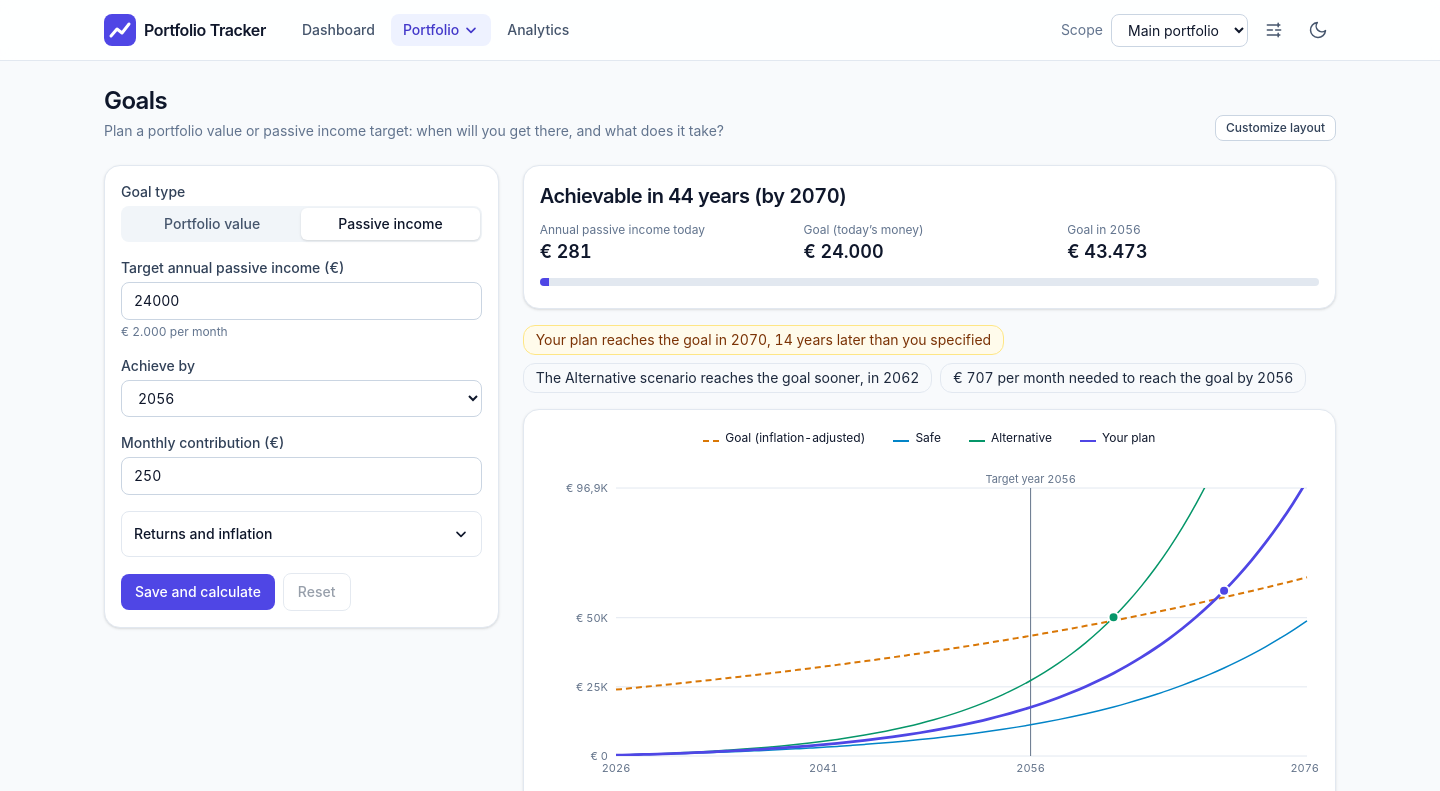
Test: GoalsPage › switches the goal type, adapting the labels, target and price return field
The width and height of the screenshot is (1440, 791).
Expected: the text "Achievable in 44 years (by 2070)" is shown, x1=540 y1=184 x2=846 y2=208
Click the button "Returns and inflation".
click(203, 534)  # box x1=134 y1=524 x2=469 y2=544
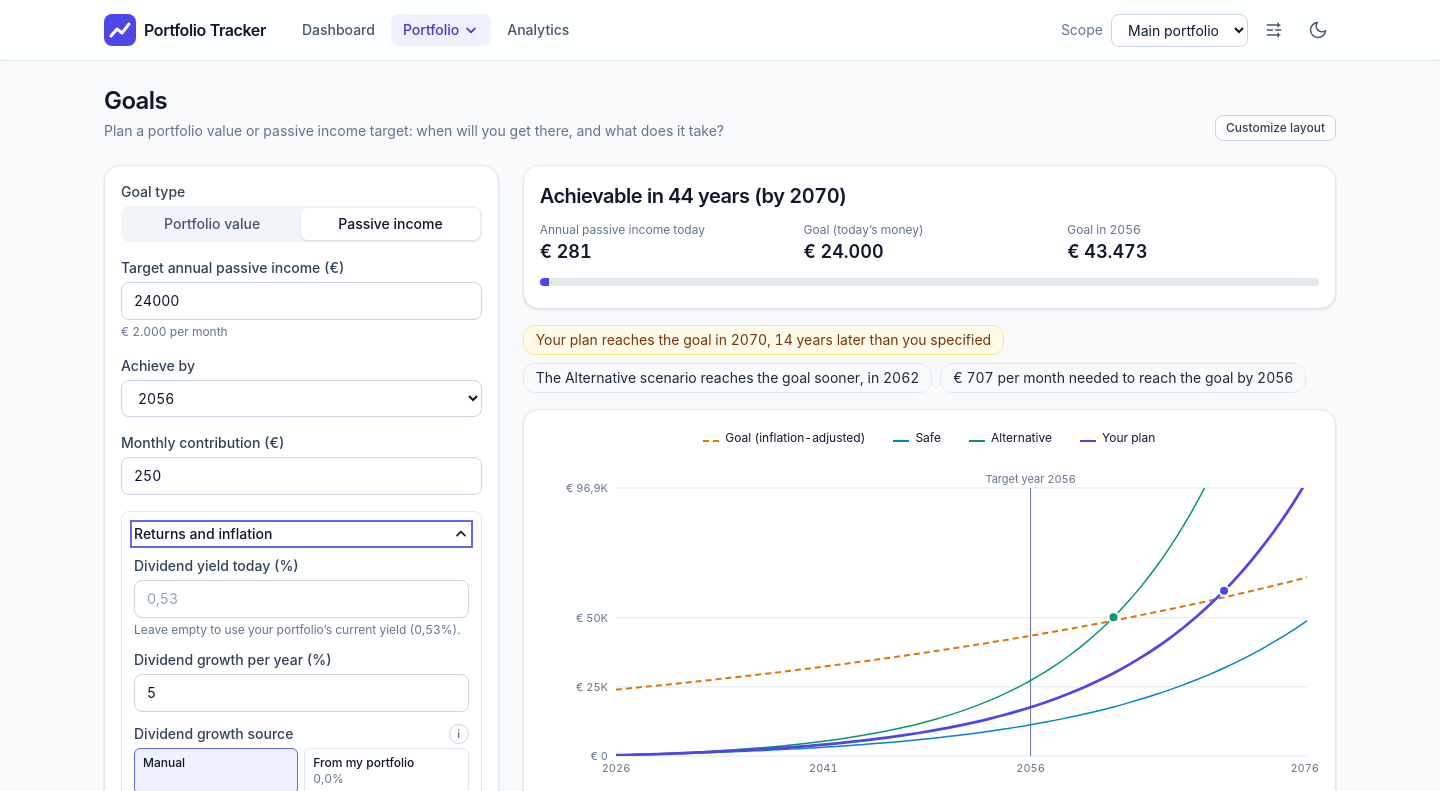
Expected: the field labelled "Expected price return per year (%)" is not shown
Click the radio button labelled "Portfolio value".
click(212, 224)  # box x1=164 y1=215 x2=260 y2=232
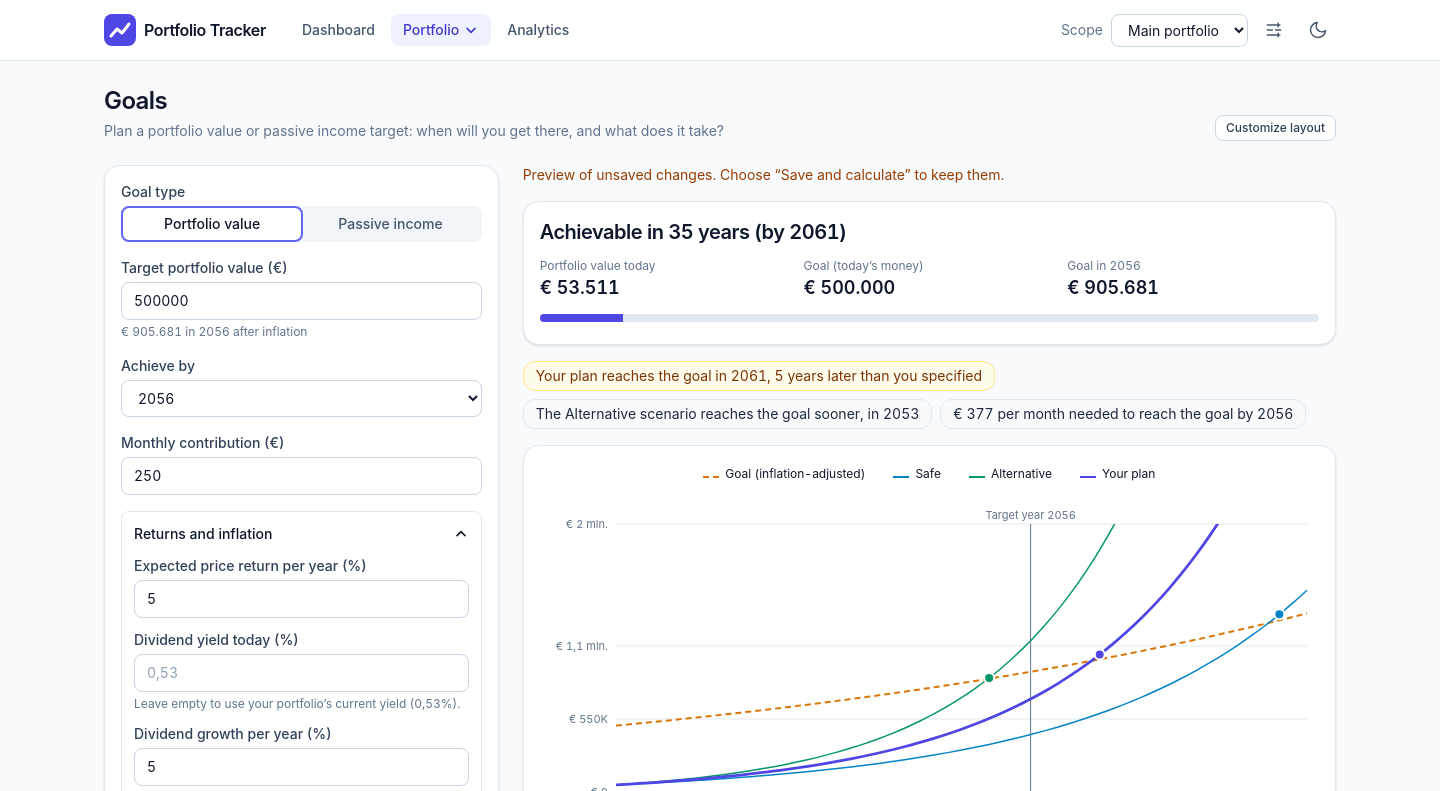
Now the field labelled "Target portfolio value (€)" holds "500000", box x1=121 y1=282 x2=482 y2=320
Now the field labelled "Expected price return per year (%)" holds "5", box x1=134 y1=580 x2=469 y2=618
Now the text "€ 905.681 in 2056 after inflation" is shown, box x1=121 y1=324 x2=307 y2=339
Click the radio button labelled "Passive income".
click(390, 224)  # box x1=338 y1=215 x2=443 y2=232
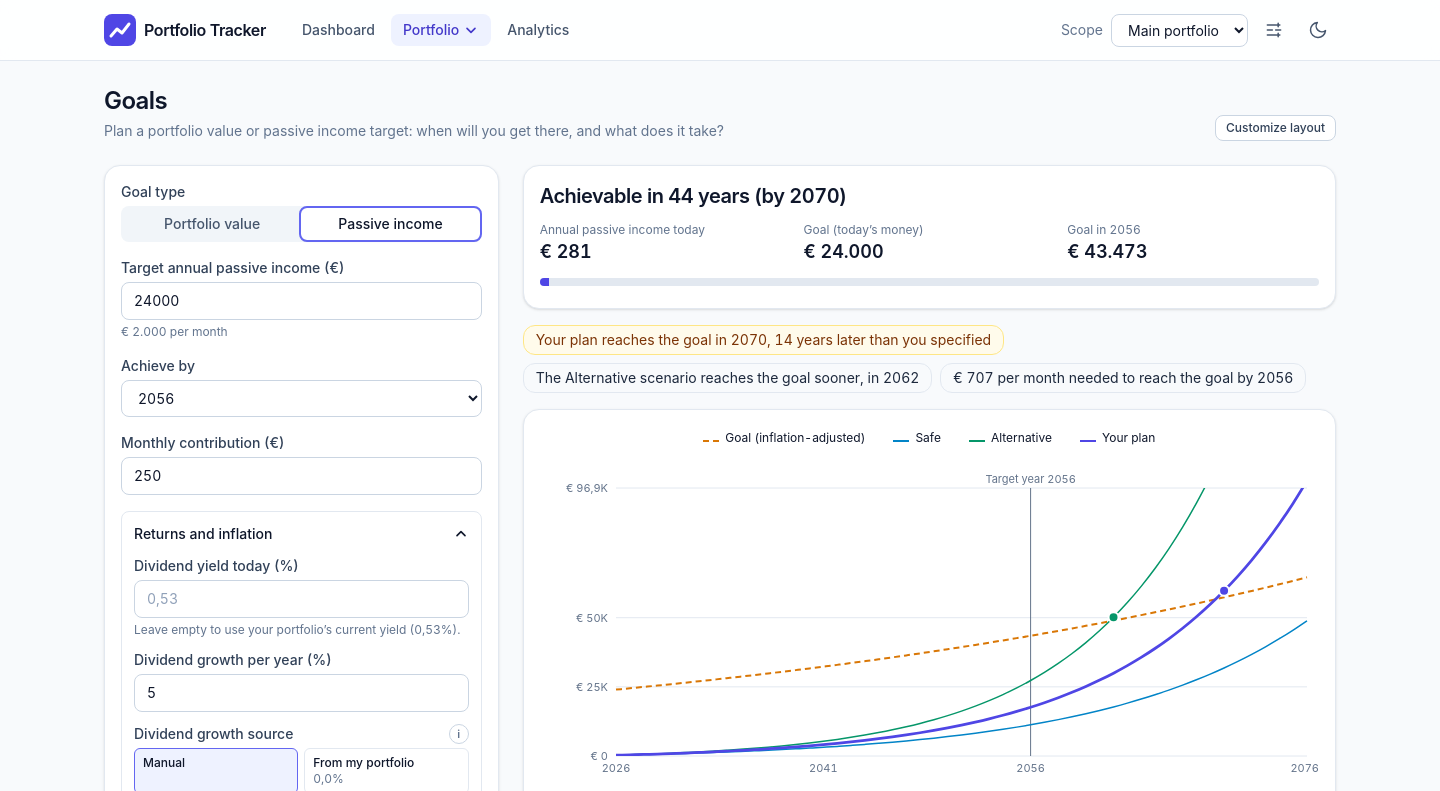
Now the field labelled "Target annual passive income (€)" holds "24000", box x1=121 y1=282 x2=482 y2=320
